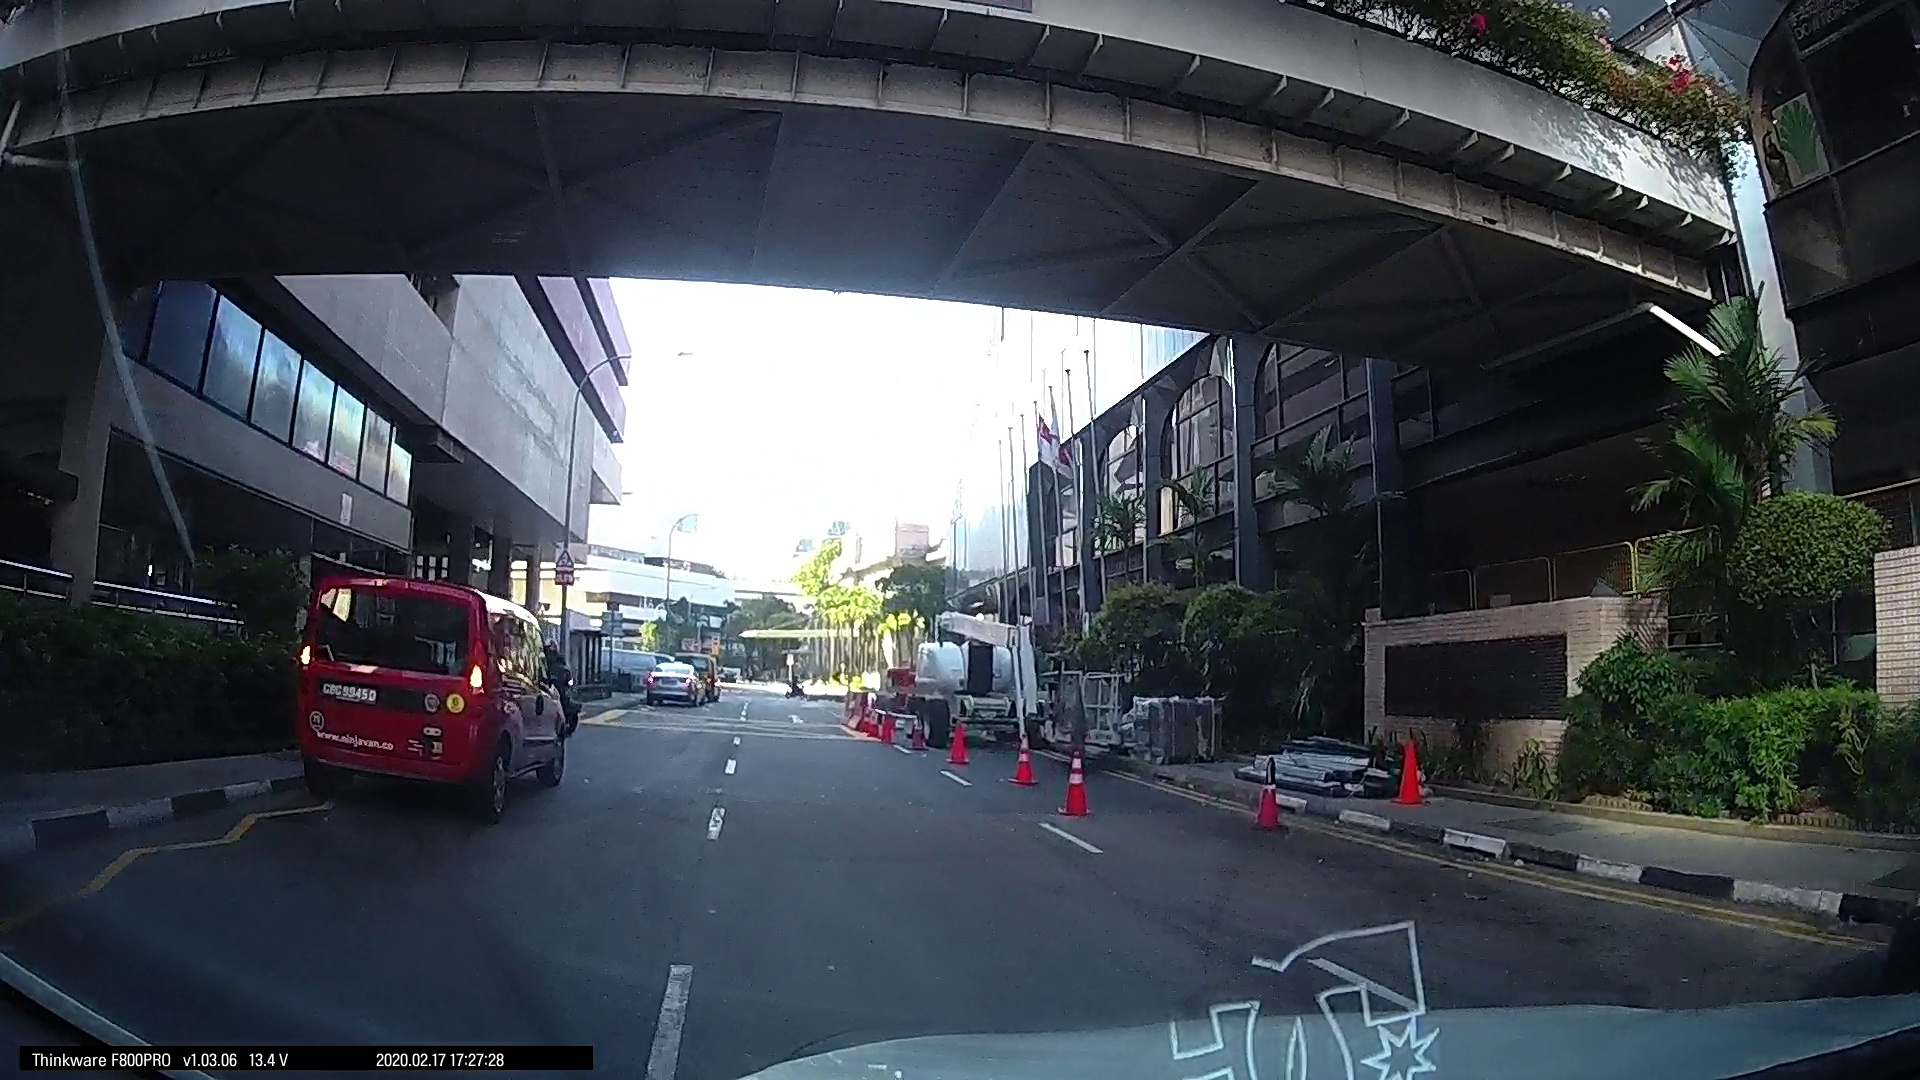Light Vehicle: (5, 508, 563, 1007), (417, 640, 740, 878), (1414, 665, 1594, 796), (676, 640, 828, 789), (840, 620, 938, 713), (1349, 680, 1423, 761), (1127, 650, 1187, 705), (1005, 654, 1052, 696), (934, 644, 972, 680)
